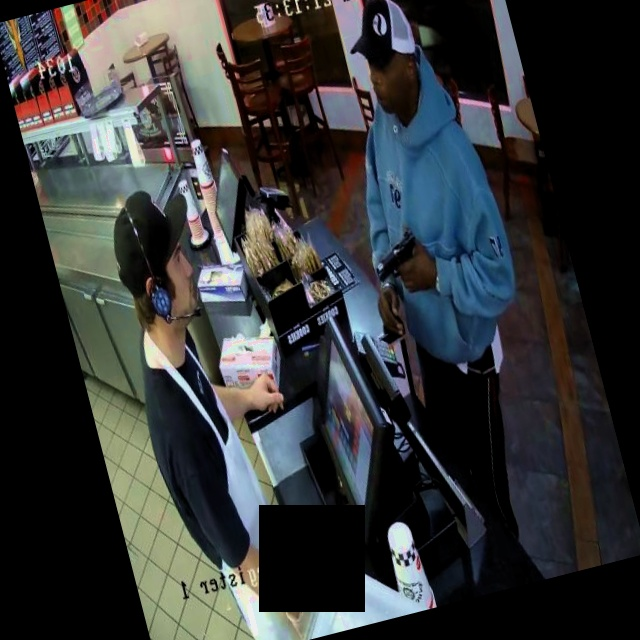gun: (356, 208, 453, 317)
